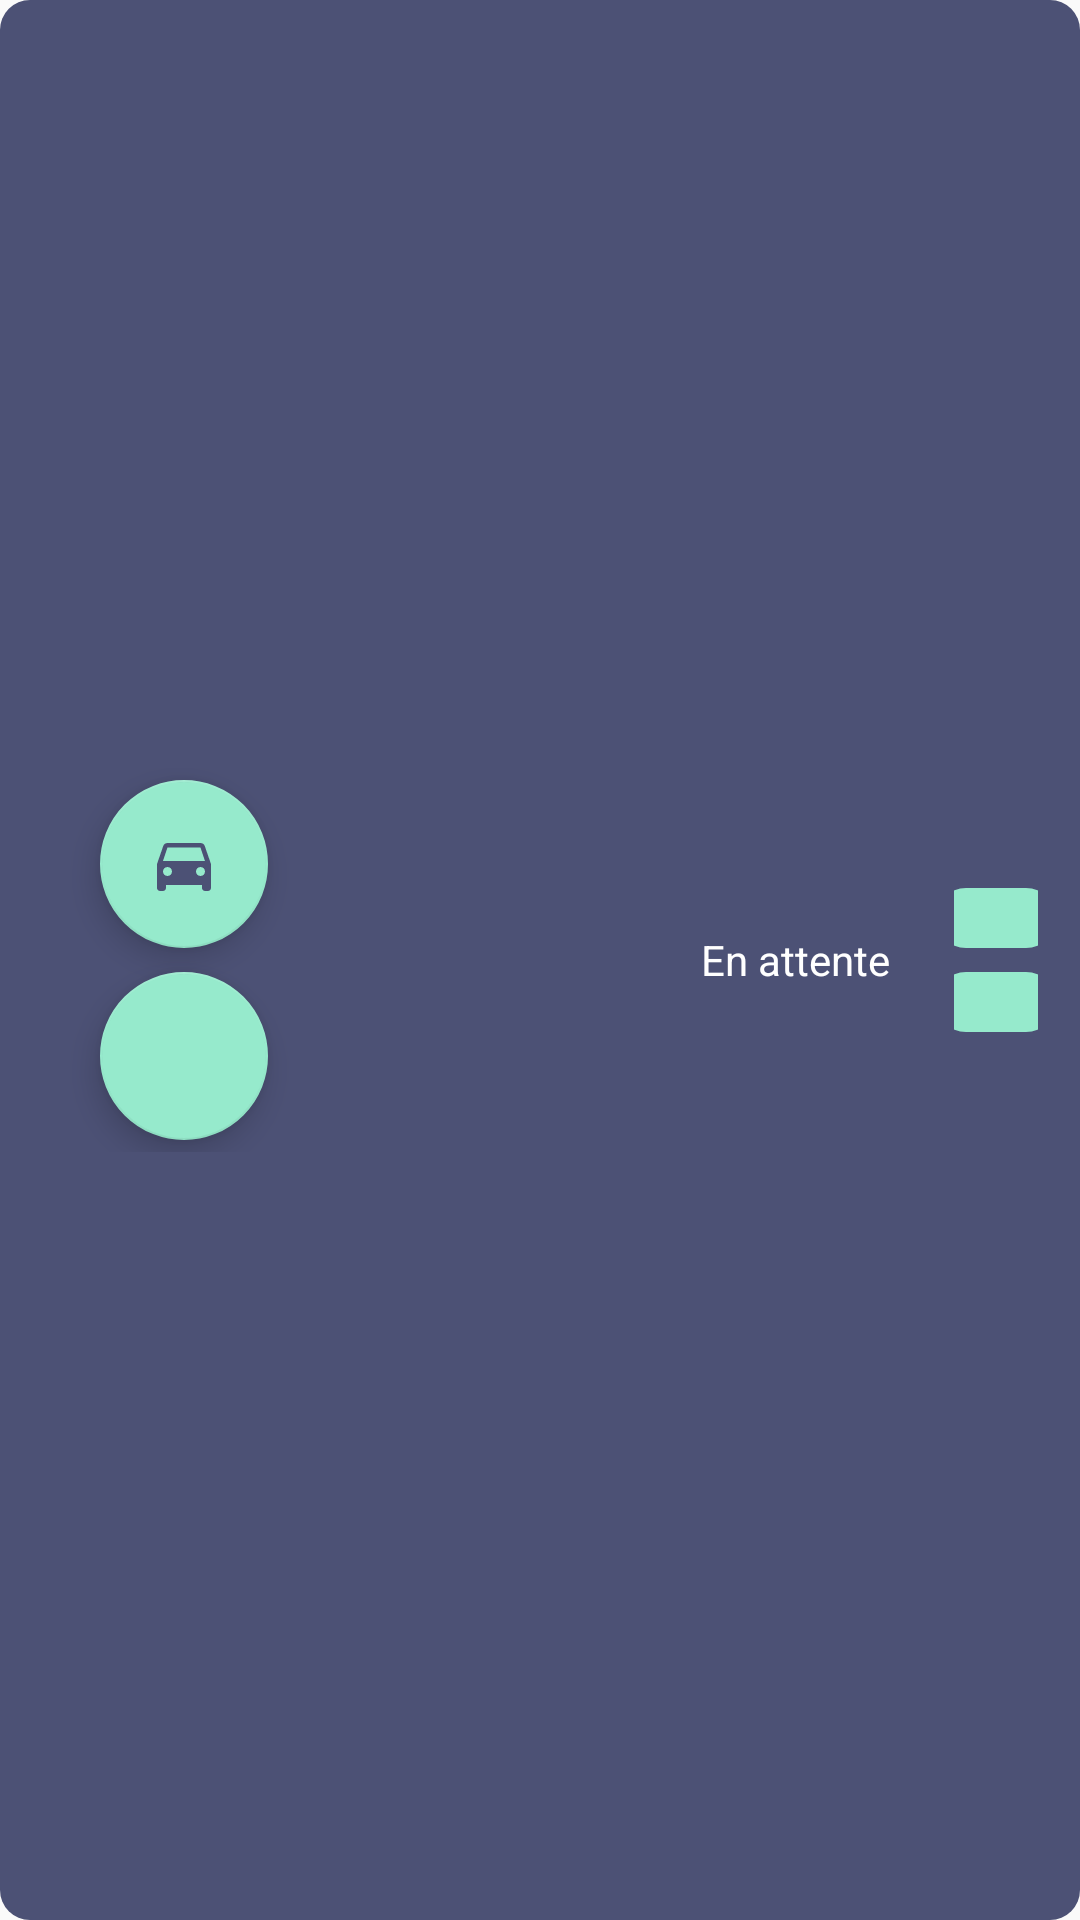

Icon click points for this 1080 x 1920 phone screenshot, format point (x, y):
car: point (184, 864)
